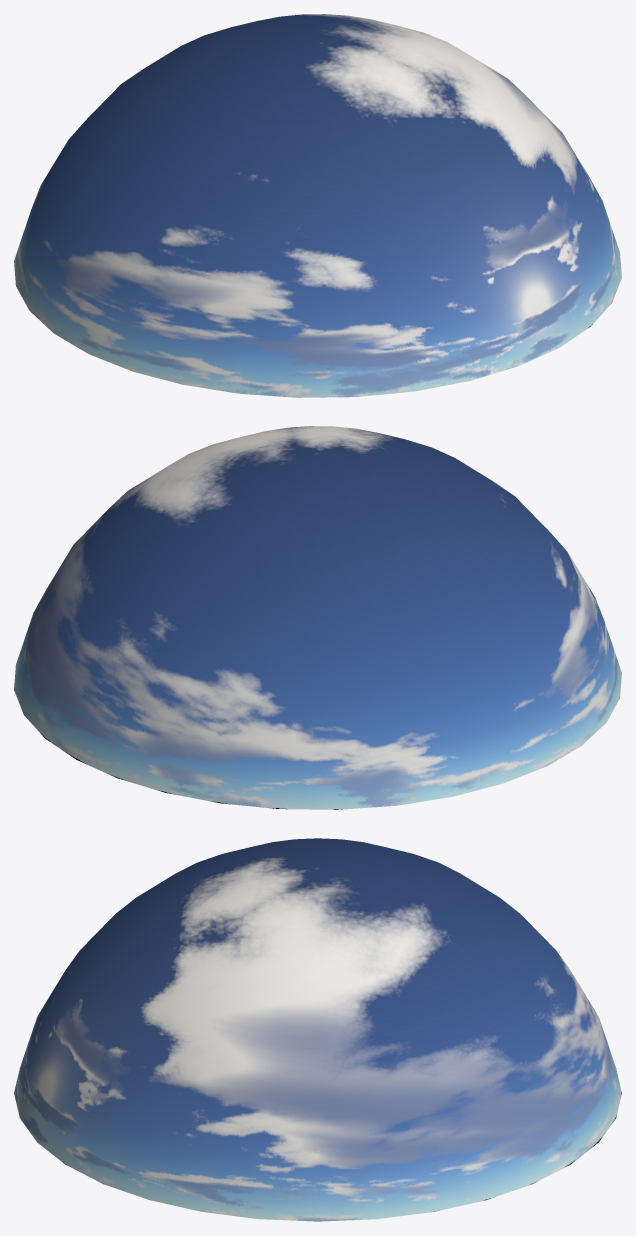
Rendered from KK-skydome.obj.
3 renders of one model, top to bottom at view 1: azimuth 30°, elevation 25°; view 2: azimuth 150°, elevation 25°; view 3: azimuth 270°, elevation 25°, orthographic.
Parts seen in each view (by area): view 1: Sphere; view 2: Sphere; view 3: Sphere.
Part boxes in pixels (bbox=[...]): Sphere: bbox=[14, 14, 621, 397]; Sphere: bbox=[14, 426, 621, 809]; Sphere: bbox=[14, 838, 621, 1221].
Size of the model in its own units: 44.84 by 18.4 by 44.84.
1 material, 1 textured.
